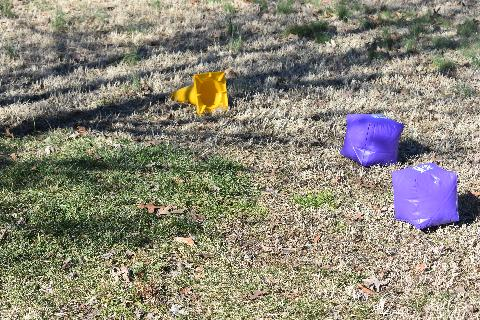cone: (170, 72, 228, 115)
cube: (391, 162, 459, 230), (340, 113, 403, 167)
